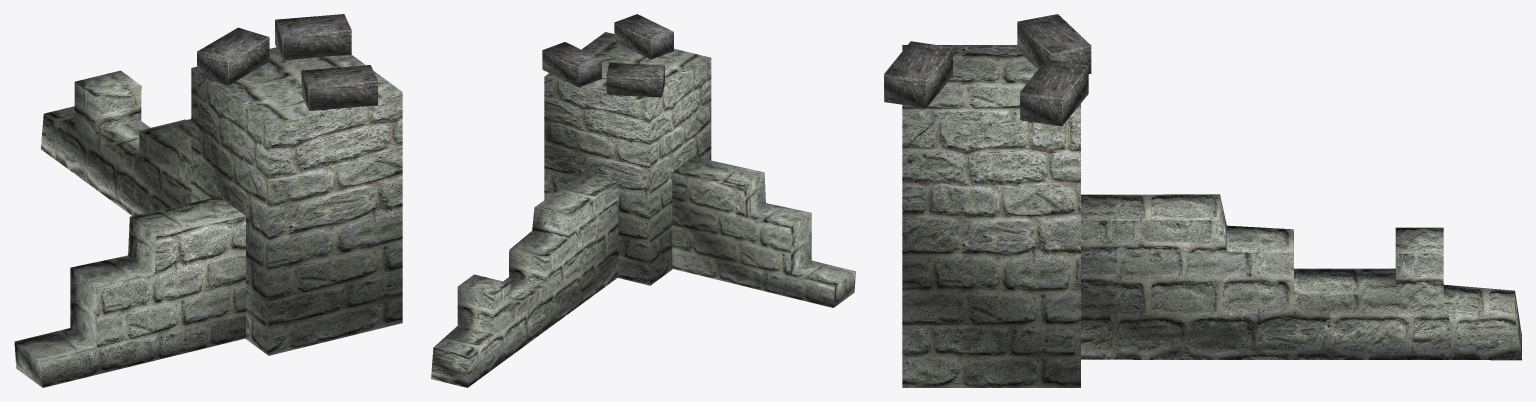
The model's file is foundationRuin.glb.
The picture shows the model from 3 angles, left to right: view 1: azimuth 30°, elevation 25°; view 2: azimuth 150°, elevation 25°; view 3: azimuth 270°, elevation 25°; orthographic projection. The views are drawn at different scales.
Visible parts, largest first — view 1: 3td_BrickOldRound_01.jpg__, 3td_LoneBrick_01.jpg__; view 2: 3td_BrickOldRound_01.jpg__, 3td_LoneBrick_01.jpg__; view 3: 3td_BrickOldRound_01.jpg__, 3td_LoneBrick_01.jpg__.
Boxes of the visible parts, x1,y1,x2,y2 form: 3td_BrickOldRound_01.jpg__: (14, 47, 402, 387); 3td_LoneBrick_01.jpg__: (197, 14, 377, 110); 3td_BrickOldRound_01.jpg__: (431, 32, 855, 387); 3td_LoneBrick_01.jpg__: (542, 14, 673, 97); 3td_BrickOldRound_01.jpg__: (902, 45, 1521, 387); 3td_LoneBrick_01.jpg__: (884, 14, 1091, 126).
Size of the model in its own units: 12.13 by 8.49 by 16.57.
2 materials, 2 textured.
